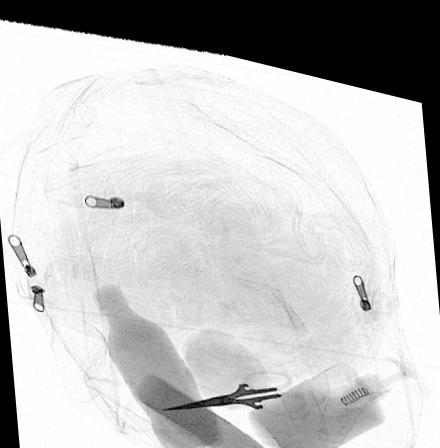Scissors: (158, 354, 307, 403)
